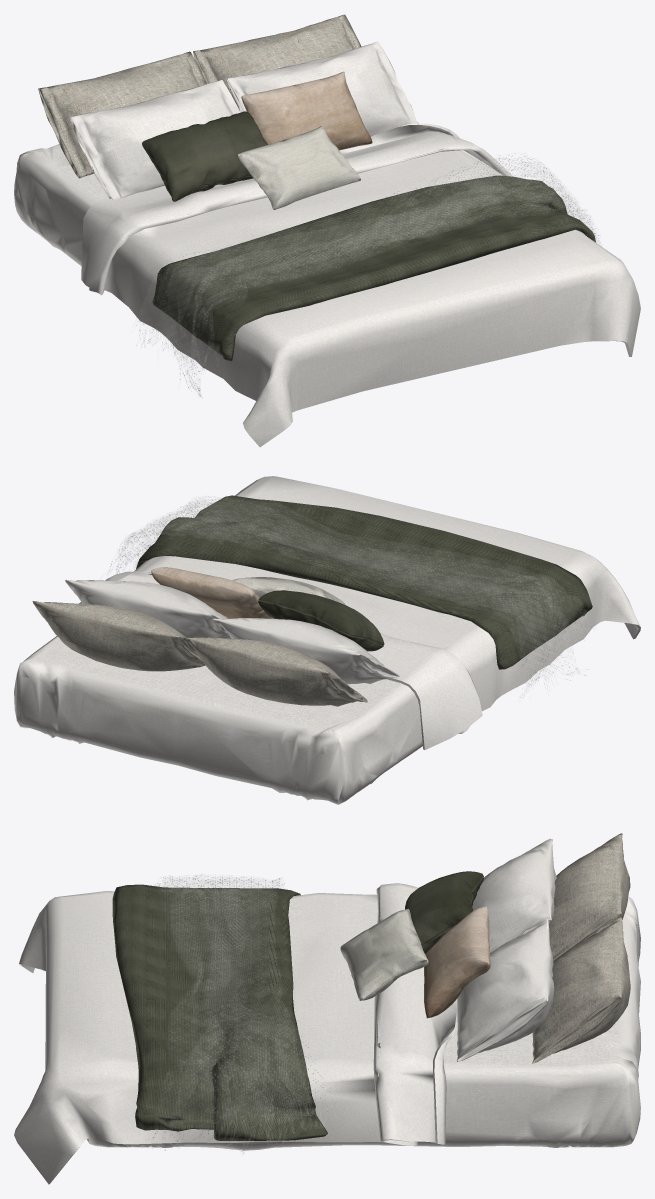
3 views of the same model, one above another, from view 1: azimuth 30°, elevation 25°; view 2: azimuth 150°, elevation 25°; view 3: azimuth 270°, elevation 25° (orthographic). The views are drawn at different scales.
Parts seen in each view (by area): view 1: prefix_cover_StaticMeshComponent0, prefix_그린_StaticMeshComponent0, prefix_AI30_005_bed_04_StaticMeshComponent0, prefix_green-pillow002_StaticMeshComponent0, prefix_green-pillow_StaticMeshComponent0, prefix_green-pillow003_StaticMeshComponent0, prefix_mattress_StaticMeshComponent0, prefix_green-stripe_StaticMeshComponent0, prefix_50x50_green-_cushion_StaticMeshComponent0, prefix_50x50_green-_cushion001_StaticMeshComponent0, prefix_green-pillow001_StaticMeshComponent0; view 2: prefix_mattress_StaticMeshComponent0, prefix_그린_StaticMeshComponent0, prefix_cover_StaticMeshComponent0, prefix_AI30_005_bed_04_StaticMeshComponent0, prefix_green-pillow001_StaticMeshComponent0, prefix_green-pillow_StaticMeshComponent0, prefix_green-pillow002_StaticMeshComponent0, prefix_green-pillow003_StaticMeshComponent0, prefix_green-stripe_StaticMeshComponent0, prefix_50x50_green-_cushion_StaticMeshComponent0, prefix_50x50_green-_cushion001_StaticMeshComponent0; view 3: prefix_cover_StaticMeshComponent0, prefix_그린_StaticMeshComponent0, prefix_mattress_StaticMeshComponent0, prefix_AI30_005_bed_04_StaticMeshComponent0, prefix_green-pillow003_StaticMeshComponent0, prefix_green-pillow001_StaticMeshComponent0, prefix_green-pillow_StaticMeshComponent0, prefix_green-pillow002_StaticMeshComponent0, prefix_50x50_green-_cushion001_StaticMeshComponent0, prefix_50x50_green-_cushion_StaticMeshComponent0, prefix_green-stripe_StaticMeshComponent0.
Boxes of the visible parts, x1,y1,x2,y2 form: prefix_cover_StaticMeshComponent0: (81, 123, 640, 447); prefix_그린_StaticMeshComponent0: (152, 175, 595, 361); prefix_AI30_005_bed_04_StaticMeshComponent0: (136, 153, 601, 396); prefix_green-pillow002_StaticMeshComponent0: (70, 79, 240, 199); prefix_green-pillow_StaticMeshComponent0: (38, 51, 206, 178); prefix_green-pillow003_StaticMeshComponent0: (226, 41, 417, 136); prefix_mattress_StaticMeshComponent0: (14, 122, 418, 266); prefix_green-stripe_StaticMeshComponent0: (142, 111, 267, 201); prefix_50x50_green-_cushion_StaticMeshComponent0: (241, 71, 372, 150); prefix_50x50_green-_cushion001_StaticMeshComponent0: (237, 126, 360, 209); prefix_green-pillow001_StaticMeshComponent0: (193, 14, 361, 96); prefix_mattress_StaticMeshComponent0: (14, 611, 487, 804); prefix_그린_StaticMeshComponent0: (136, 495, 592, 669); prefix_cover_StaticMeshComponent0: (79, 476, 640, 749); prefix_AI30_005_bed_04_StaticMeshComponent0: (109, 496, 593, 697); prefix_green-pillow001_StaticMeshComponent0: (32, 601, 205, 671); prefix_green-pillow_StaticMeshComponent0: (182, 636, 367, 706); prefix_green-pillow002_StaticMeshComponent0: (213, 618, 399, 684); prefix_green-pillow003_StaticMeshComponent0: (65, 579, 231, 638); prefix_green-stripe_StaticMeshComponent0: (258, 590, 384, 651); prefix_50x50_green-_cushion_StaticMeshComponent0: (151, 567, 274, 618); prefix_50x50_green-_cushion001_StaticMeshComponent0: (232, 577, 345, 605); prefix_cover_StaticMeshComponent0: (14, 883, 456, 1184); prefix_그린_StaticMeshComponent0: (112, 884, 327, 1140); prefix_mattress_StaticMeshComponent0: (86, 896, 640, 1150); prefix_AI30_005_bed_04_StaticMeshComponent0: (139, 874, 335, 1153); prefix_green-pillow003_StaticMeshComponent0: (456, 919, 554, 1061); prefix_green-pillow001_StaticMeshComponent0: (532, 916, 630, 1063); prefix_green-pillow_StaticMeshComponent0: (549, 833, 630, 960); prefix_green-pillow002_StaticMeshComponent0: (472, 838, 556, 952); prefix_50x50_green-_cushion001_StaticMeshComponent0: (340, 909, 428, 1000); prefix_50x50_green-_cushion_StaticMeshComponent0: (424, 906, 490, 1018); prefix_green-stripe_StaticMeshComponent0: (405, 871, 483, 953).
Bounding box in the file's own units: 1.99 × 0.7051 × 2.24.
7 materials, 7 textured.
